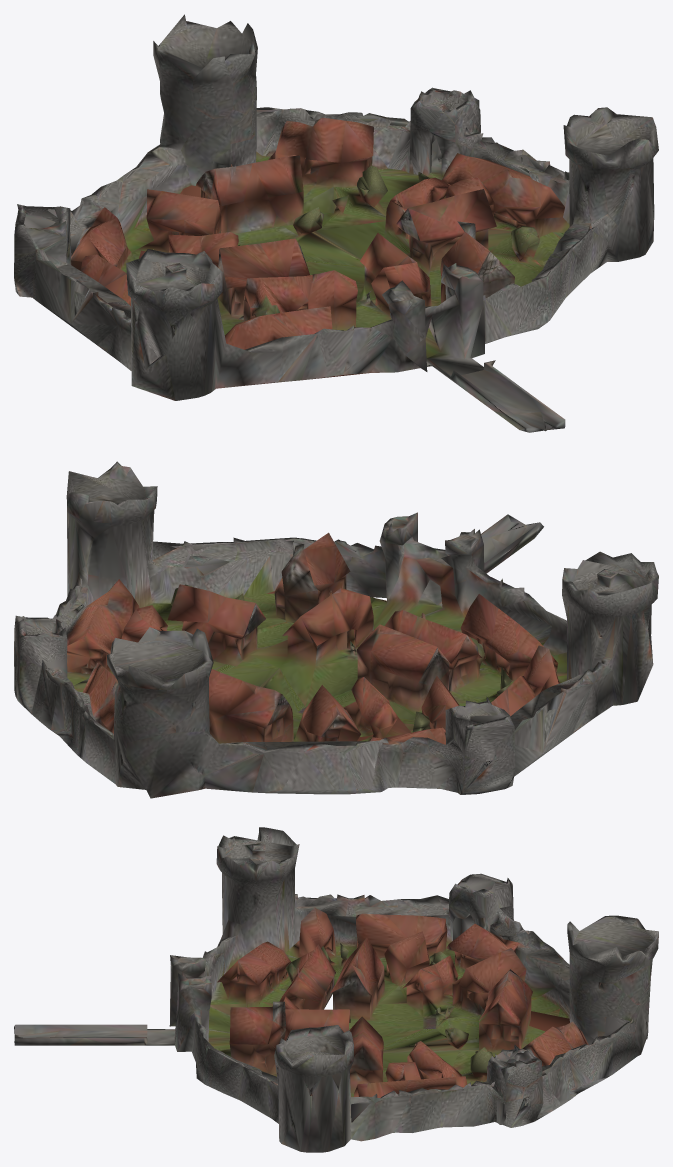
File: m_gotland_animated.glb
3 renders of one model, top to bottom at view 1: azimuth 30°, elevation 25°; view 2: azimuth 150°, elevation 25°; view 3: azimuth 270°, elevation 25°, orthographic. The views are drawn at different scales.
Visible parts, largest first — view 1: m_gotland_Living_Scenery; view 2: m_gotland_Living_Scenery; view 3: m_gotland_Living_Scenery.
Boxes of the visible parts, left/top/right/bottom form: m_gotland_Living_Scenery: left=14, top=14, right=658, bottom=432; m_gotland_Living_Scenery: left=14, top=461, right=658, bottom=798; m_gotland_Living_Scenery: left=14, top=827, right=658, bottom=1152.
Size of the model in its own units: 0.8389 by 0.1974 by 0.9998.
1 material, 1 textured.
